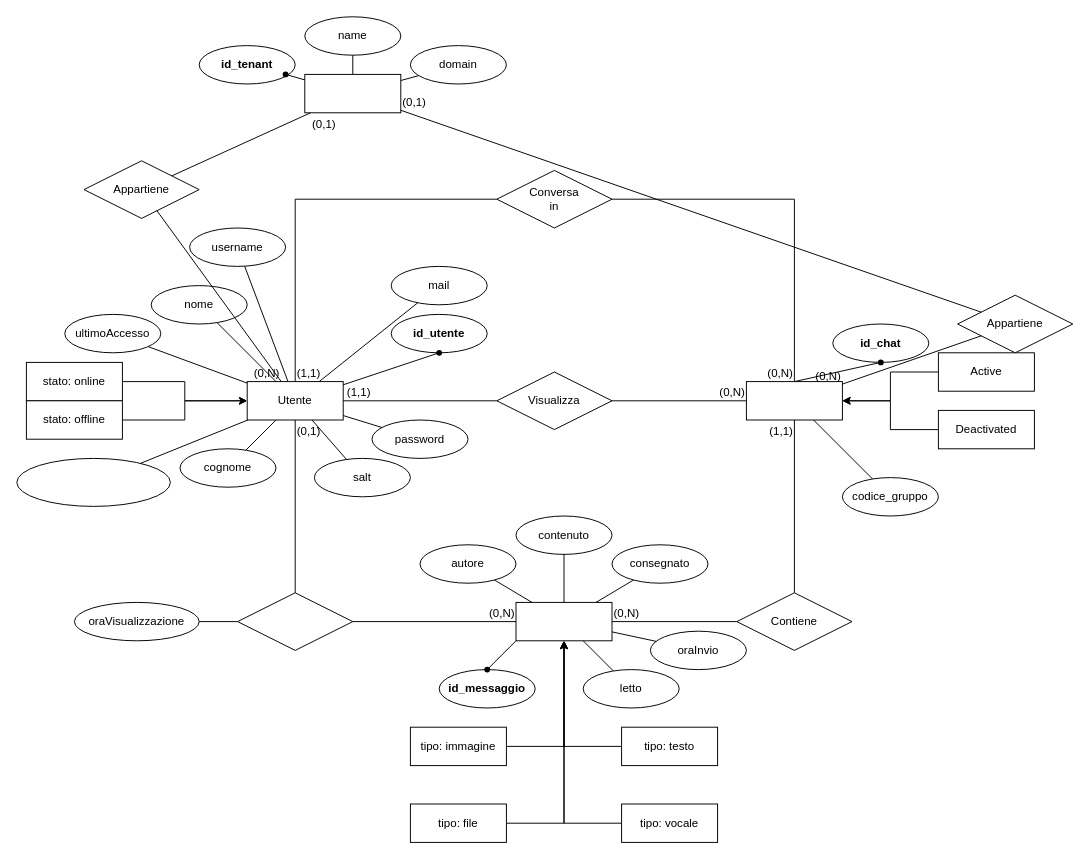
Image size: 1090x859. Some labels were removed from this diagram. The centre of each missing label's shape, as x and y in pixels:
Chat: point (793, 400)
Messaggio: point (563, 621)
remember_me_token: point (93, 481)
Tenant: point (352, 93)
Visualizzato da: point (295, 621)
